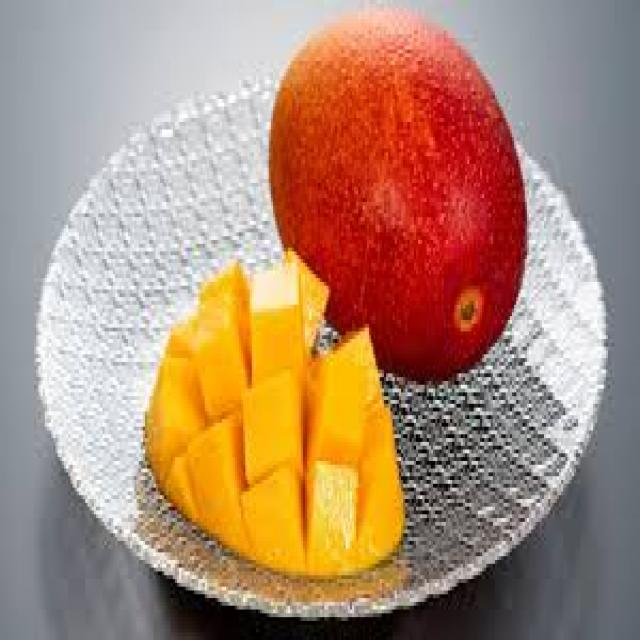mango: (143, 255, 405, 583)
